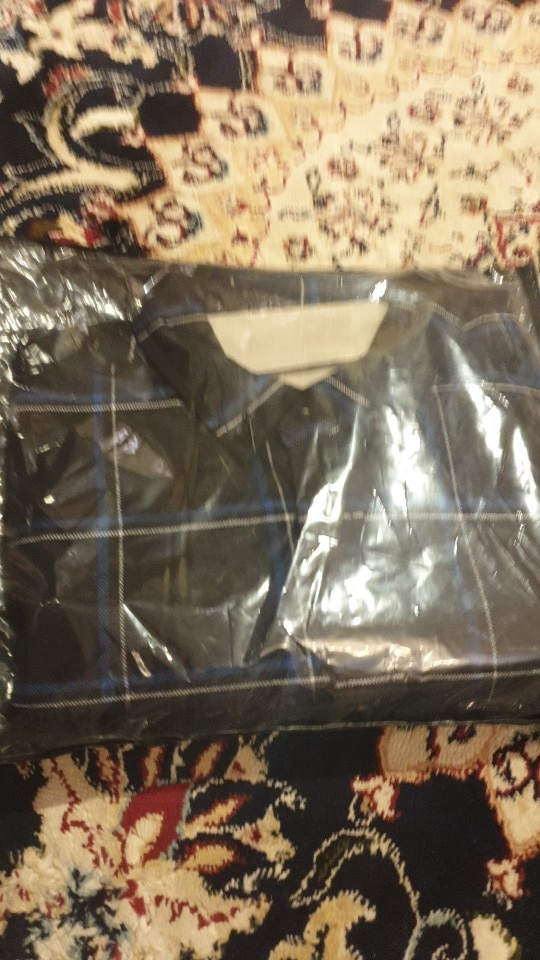shirts: (41, 279, 540, 736)
